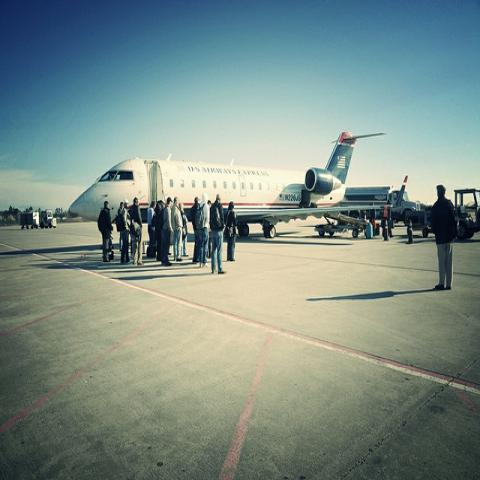truck: (402, 192, 479, 242), (342, 186, 420, 223)
